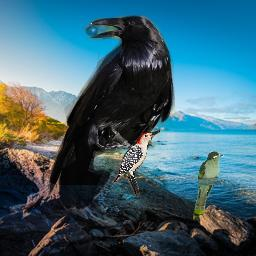Crow: (48, 15, 175, 212)
Cuckoo: (193, 151, 224, 221)
Woodpecker: (113, 130, 160, 197)
